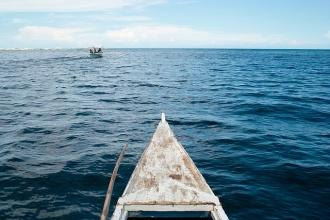otherboat: (113, 108, 231, 220), (87, 46, 105, 60)
